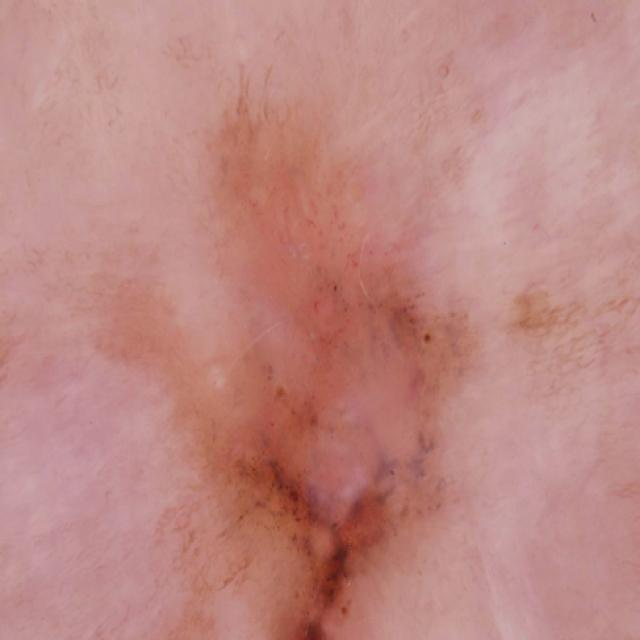Carcinoma: (86, 140, 536, 640)
